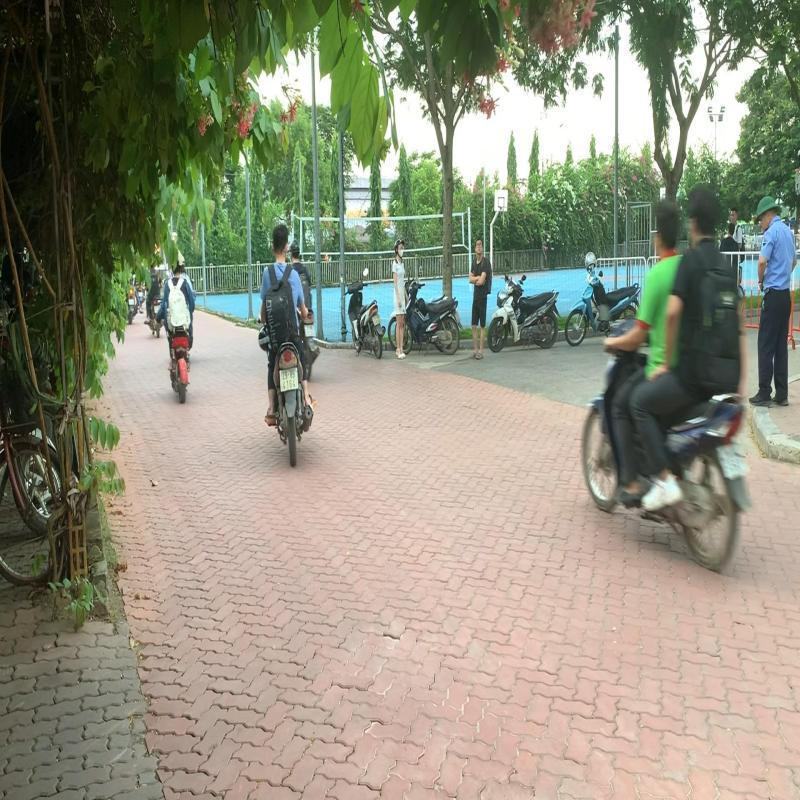nohelmet: (270, 219, 292, 257)
